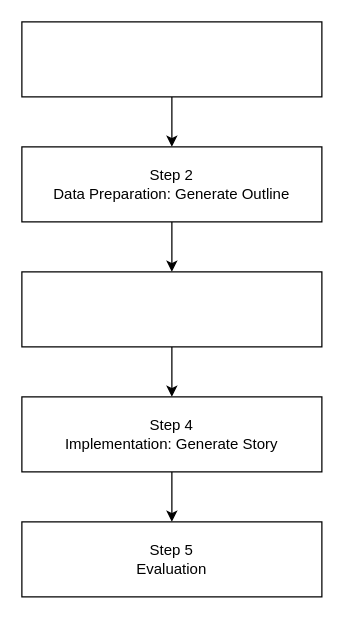
Image size: 344x619. Some labels were removed from this diagram. Each missing label, with the centre of its shape:
"Step 1 Extract Story Text from Corpus" goes at (171,59).
"Step 3 Implementation: Create Input Prompts" goes at (171,309).
